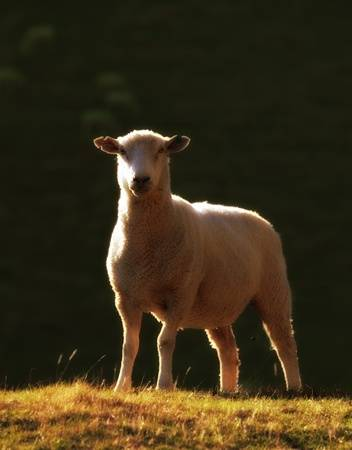sheep: (90, 123, 315, 392)
